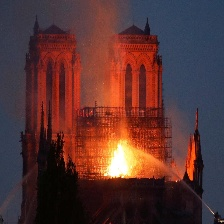fire: (105, 140, 131, 179)
smoke: (82, 7, 133, 99)
